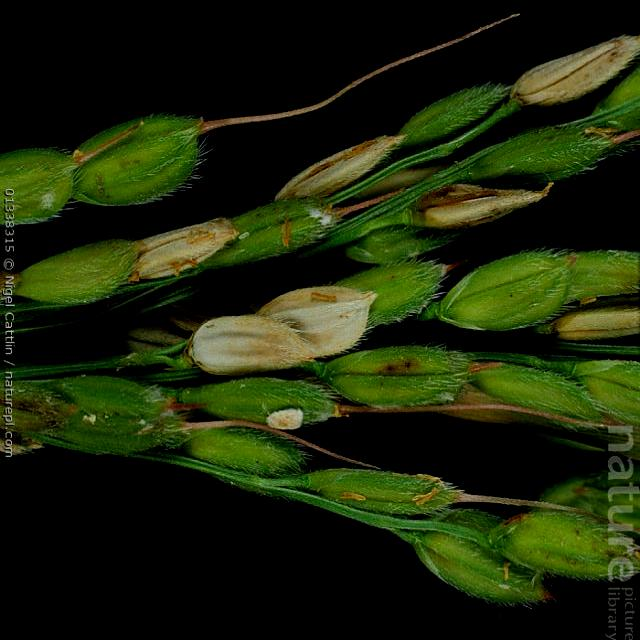Bacterial_Leaf_Blight: (181, 278, 372, 379), (506, 29, 638, 110), (276, 134, 402, 201), (402, 180, 554, 230), (136, 217, 240, 280), (553, 305, 640, 343)
